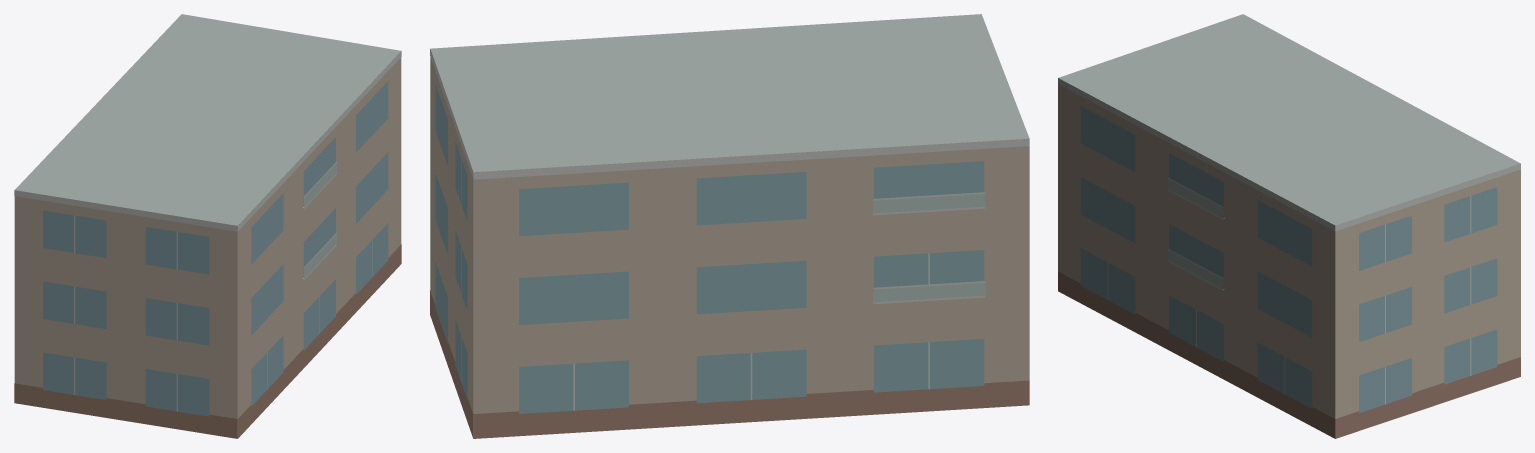
The model's file is survey-upis-32781324.glb.
The picture shows the model from 3 angles, left to right: view 1: azimuth 30°, elevation 25°; view 2: azimuth 150°, elevation 25°; view 3: azimuth 270°, elevation 25°; orthographic projection. The views are drawn at different scales.
Parts seen in each view (by area): view 1: survey-upis-32781324.tmp; view 2: survey-upis-32781324.tmp; view 3: survey-upis-32781324.tmp.
Part boxes in pixels (left/top/right/bottom): survey-upis-32781324.tmp: left=14, top=14, right=401, bottom=438; survey-upis-32781324.tmp: left=430, top=14, right=1029, bottom=438; survey-upis-32781324.tmp: left=1058, top=14, right=1520, bottom=438.
Size of the model in its own units: 18.51 by 8.7 by 17.11.
